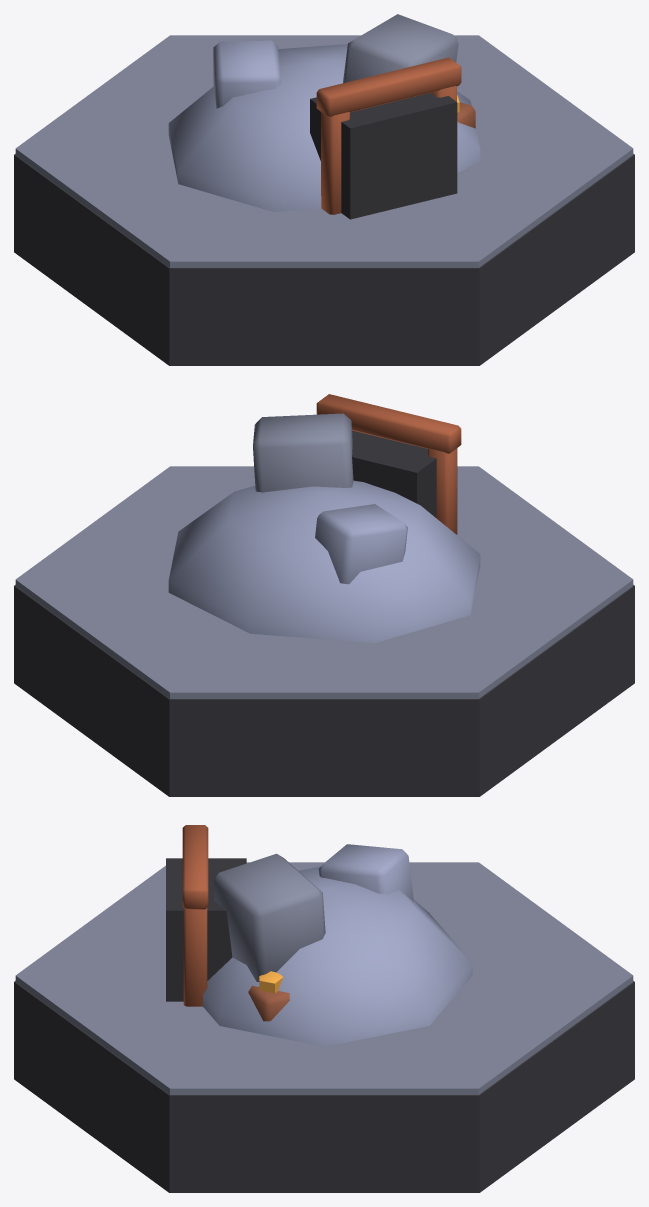
File: building-mine.glb
3 views of the same model, one above another, from view 1: azimuth 30°, elevation 25°; view 2: azimuth 150°, elevation 25°; view 3: azimuth 270°, elevation 25° (orthographic).
Parts seen in each view (by area): view 1: building_mine; view 2: building_mine; view 3: building_mine.
Boxes of the visible parts, bbox=[...] form: building_mine: bbox=[14, 14, 634, 365]; building_mine: bbox=[14, 394, 634, 796]; building_mine: bbox=[14, 825, 634, 1192].
Bounding box in the file's own units: 1 × 0.52 × 1.15.
1 material, 1 textured.
